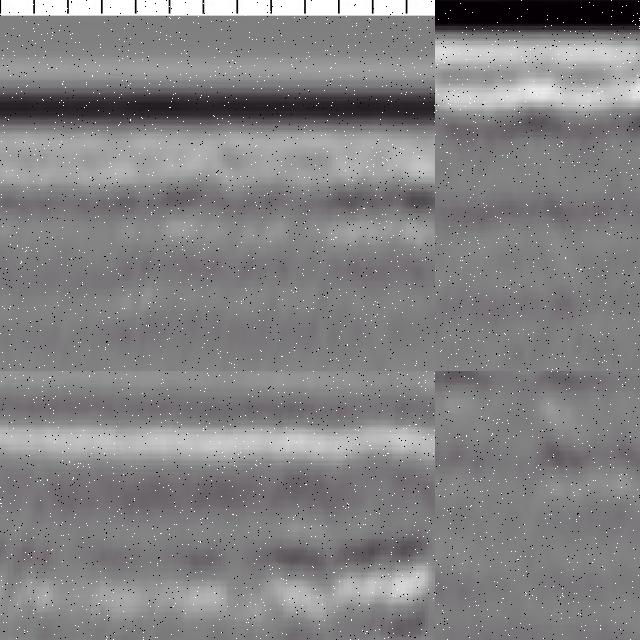crack: (436, 84, 456, 353)
